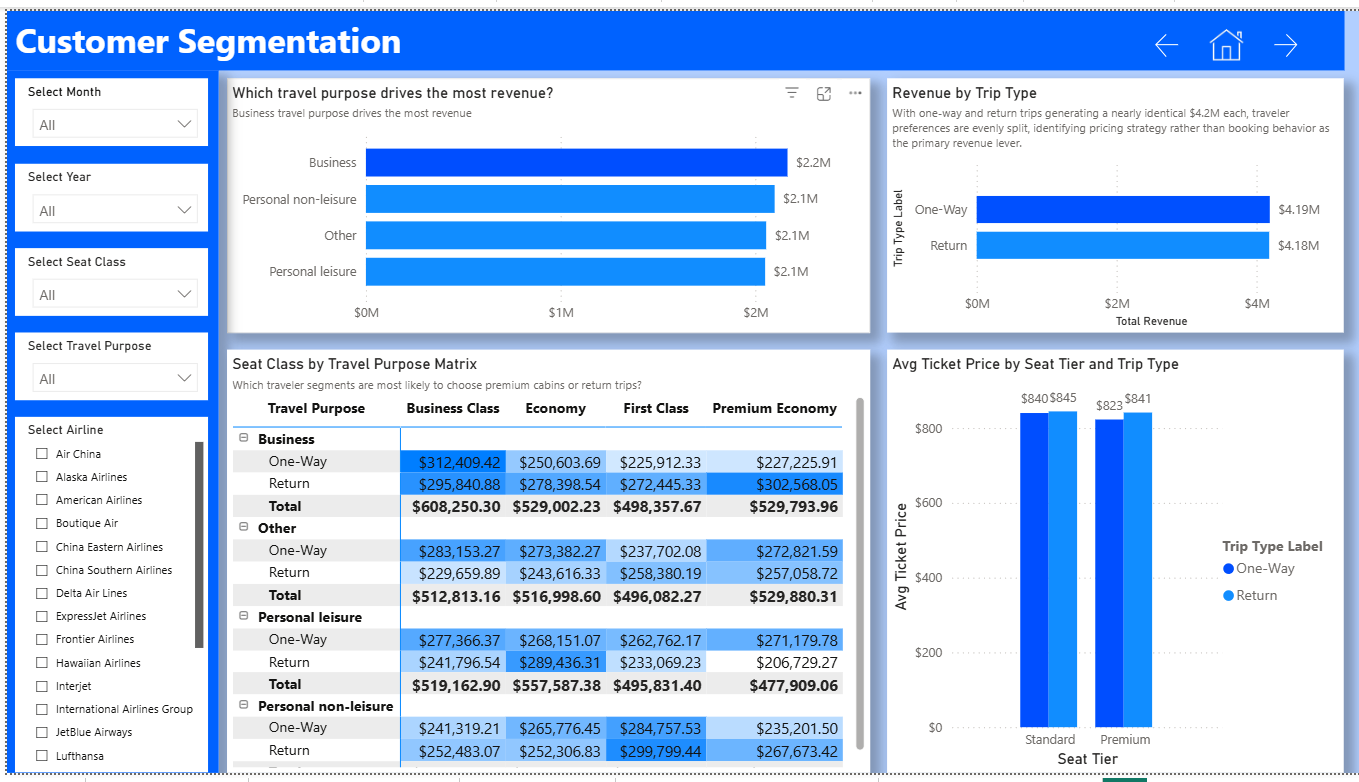

Layout of this report page (visuals, bound fields, positions):
{"tool":"powerbi","page":{"name":"Customer & Traveler Segmentation","canvas":[1280,720],"ordinal":4},"visuals":[{"type":"clusteredBarChart","title":"Which travel purpose drives the most revenue?","fields":{"Y":["_Measures.Total Revenue"],"Category":["Flights.Travel Purpose"]},"box":[208,64,608,240],"z":0},{"type":"shape","box":[0,56,200,664],"z":1000},{"type":"image","box":[1120,16,64,32],"z":2000},{"type":"clusteredBarChart","title":"Revenue by Trip Type","fields":{"Y":["_Measures.Total Revenue"],"Category":["Flights.Trip Type Label"]},"box":[832,64,432,240],"z":3000},{"type":"textbox","box":[0,0,1264,56],"z":4000},{"type":"slicer","title":"Select Month","fields":{"Values":["Date.Month Name"]},"box":[8,64,182.8,64],"z":5000},{"type":"pivotTable","title":"Seat Class by Travel Purpose Matrix","fields":{"Values":["_Measures.Total Revenue"],"Columns":["Flights.Seat class"],"Rows":["Flights.Travel Purpose","Flights.Trip Type Label"]},"box":[208,320,608,400],"z":7000},{"type":"slicer","title":"Select Year","fields":{"Values":["Date.Year"]},"box":[8,144,182.8,64],"z":8000},{"type":"clusteredColumnChart","title":"Avg Ticket Price by Seat Tier and Trip Type","fields":{"Category":["Flights.Seat Tier"],"Y":["_Measures.Avg Ticket Price"],"Series":["Flights.Trip Type Label"]},"box":[832,320,432,400],"z":9000},{"type":"slicer","title":"Select Seat Class","fields":{"Values":["Flights.Seat class"]},"box":[8,224,182.8,64],"z":10000},{"type":"slicer","title":"Select Travel Purpose","fields":{"Values":["Flights.Travel Purpose"]},"box":[8,304,182.8,64],"z":11000},{"type":"slicer","title":"Select Airline","fields":{"Values":["Flights.Airlines"]},"box":[8,384,182.8,336],"z":12000},{"type":"actionButton","box":[1072,16,48,32],"z":13000},{"type":"image","box":[1120,16,64,32],"z":14000},{"type":"actionButton","box":[1184,16,48,32],"z":15000}]}

Visuals, with their boxes in screenshot pixels (x1, y1, x2, y2), scaled from the page's 1280x720 canvas onto the 1359x782 screenshot:
"Which travel purpose drives the most revenue?" clusteredBarChart: 221 70 866 330
shape: 0 61 212 781
image: 1189 17 1257 52
"Revenue by Trip Type" clusteredBarChart: 883 70 1342 330
textbox: 0 0 1342 61
"Select Month" slicer: 8 70 203 139
"Seat Class by Travel Purpose Matrix" pivotTable: 221 348 866 781
"Select Year" slicer: 8 156 203 226
"Avg Ticket Price by Seat Tier and Trip Type" clusteredColumnChart: 883 348 1342 781
"Select Seat Class" slicer: 8 243 203 313
"Select Travel Purpose" slicer: 8 330 203 400
"Select Airline" slicer: 8 417 203 781
actionButton: 1138 17 1189 52
image: 1189 17 1257 52
actionButton: 1257 17 1308 52
